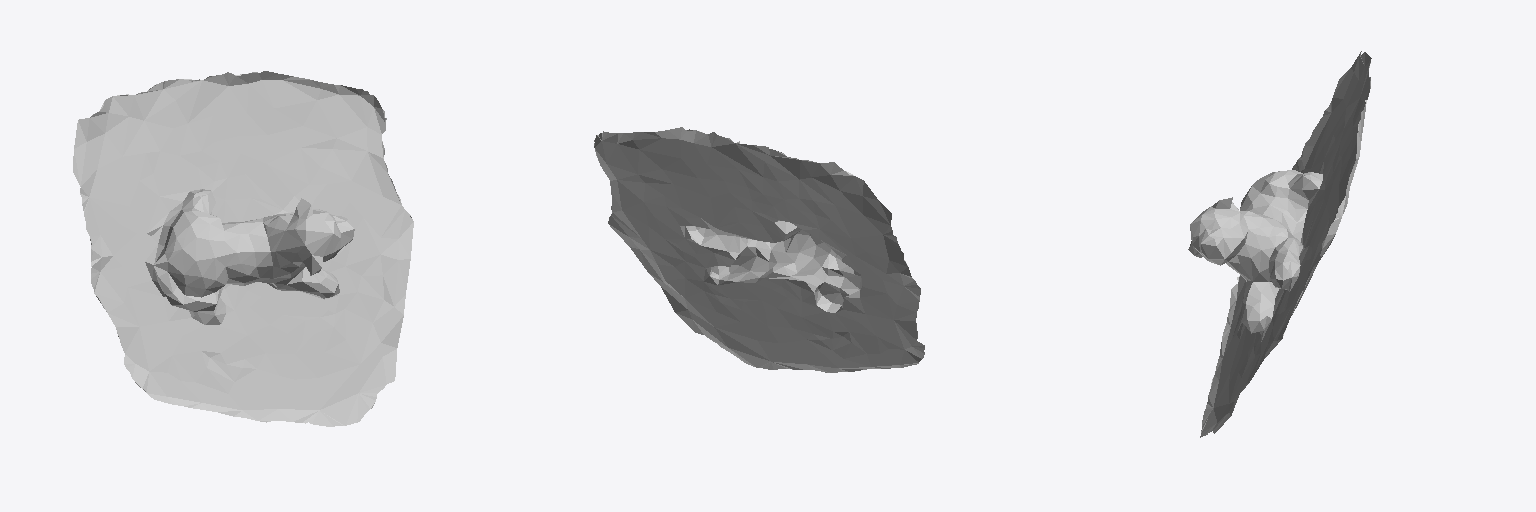
File: tiger1000.obj
The picture shows the model from 3 angles: view 1: azimuth 30°, elevation 25°; view 2: azimuth 150°, elevation 25°; view 3: azimuth 270°, elevation 25°; orthographic projection.
Size of the model in its own units: 6.33 by 5.82 by 3.16.